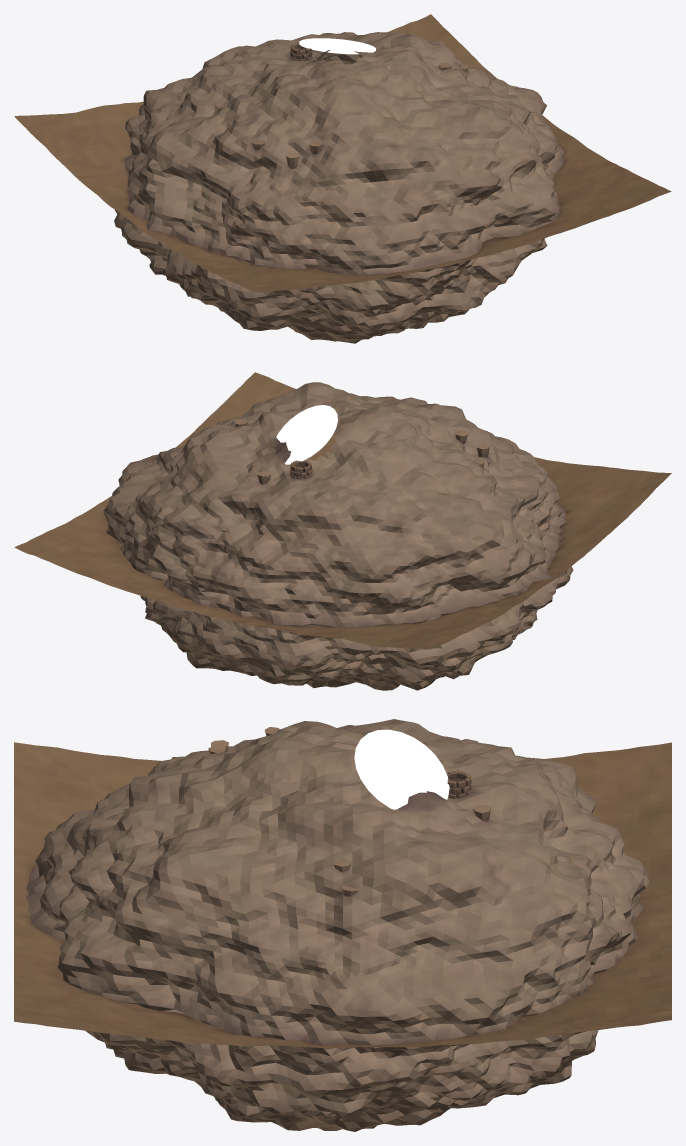
File: hall.glb
3 renders of one model, top to bottom at view 1: azimuth 30°, elevation 25°; view 2: azimuth 150°, elevation 25°; view 3: azimuth 270°, elevation 25°, orthographic. The views are drawn at different scales.
Visible parts, largest first — view 1: hall_paint, hall_glow_sky; view 2: hall_paint, hall_glow_sky; view 3: hall_paint, hall_glow_sky.
Boxes of the visible parts, bbox=[...] form: hall_paint: bbox=[14, 14, 671, 343]; hall_glow_sky: bbox=[299, 38, 375, 54]; hall_paint: bbox=[14, 372, 671, 690]; hall_glow_sky: bbox=[276, 405, 337, 464]; hall_paint: bbox=[14, 719, 671, 1131]; hall_glow_sky: bbox=[354, 729, 449, 809].
Bounding box in the file's own units: 52 × 31.21 × 52.
